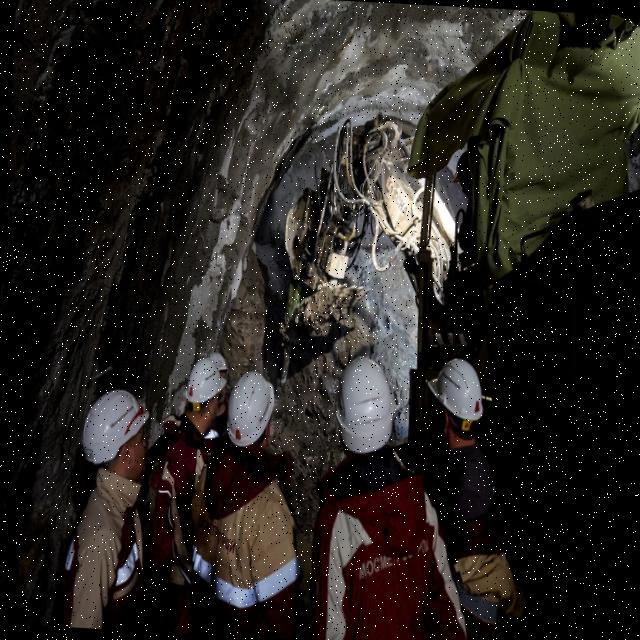Helmet: (331, 359, 399, 466), (78, 383, 153, 472), (424, 354, 489, 455), (225, 370, 279, 457), (182, 360, 226, 429), (209, 355, 232, 376)
